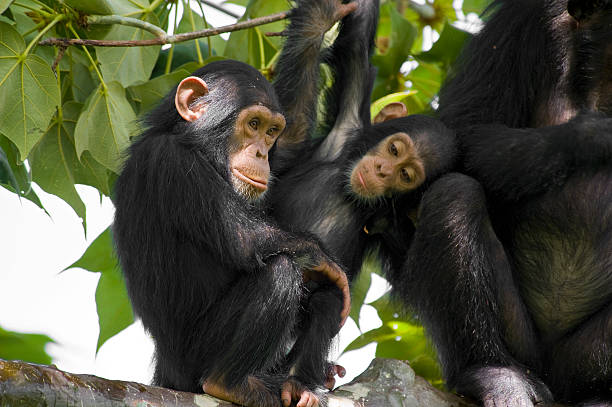chimpanzee: (157, 54, 304, 229), (335, 87, 469, 234)
